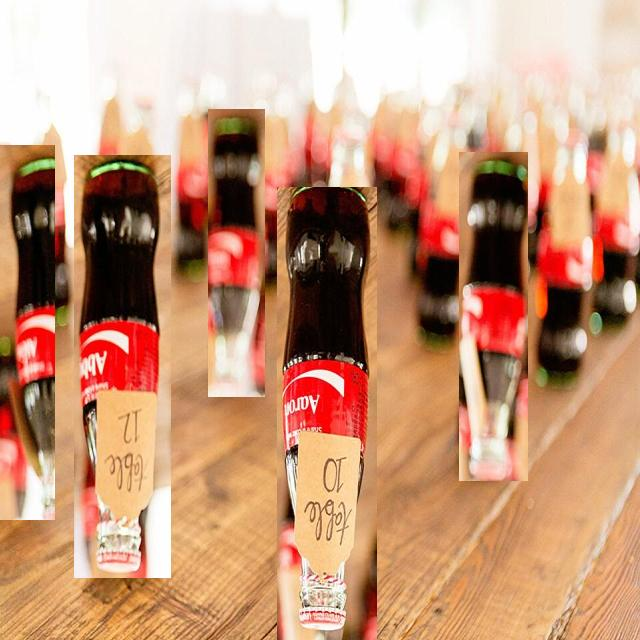coca-cola: (277, 187, 377, 640), (74, 155, 171, 578), (459, 152, 528, 481), (0, 145, 55, 520), (208, 109, 265, 397)
